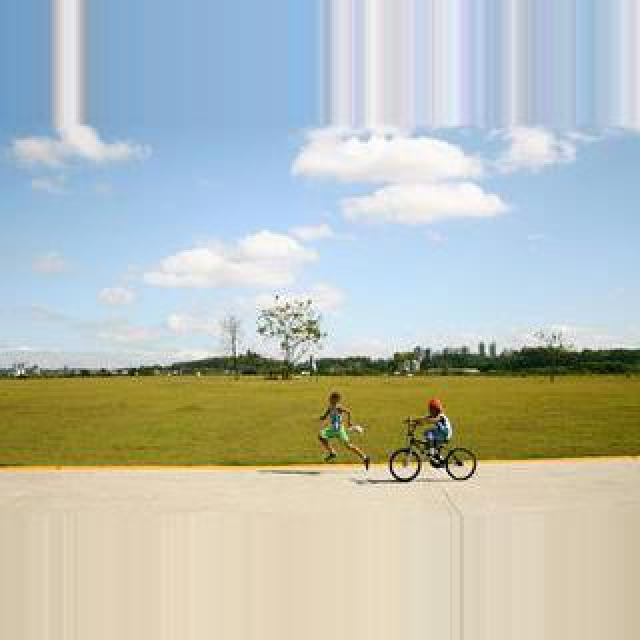Emergency Vehicles-Bike: (388, 422, 478, 482)
MC-Bike: (316, 390, 368, 466), (412, 398, 450, 464)
Person: (386, 422, 478, 482)
